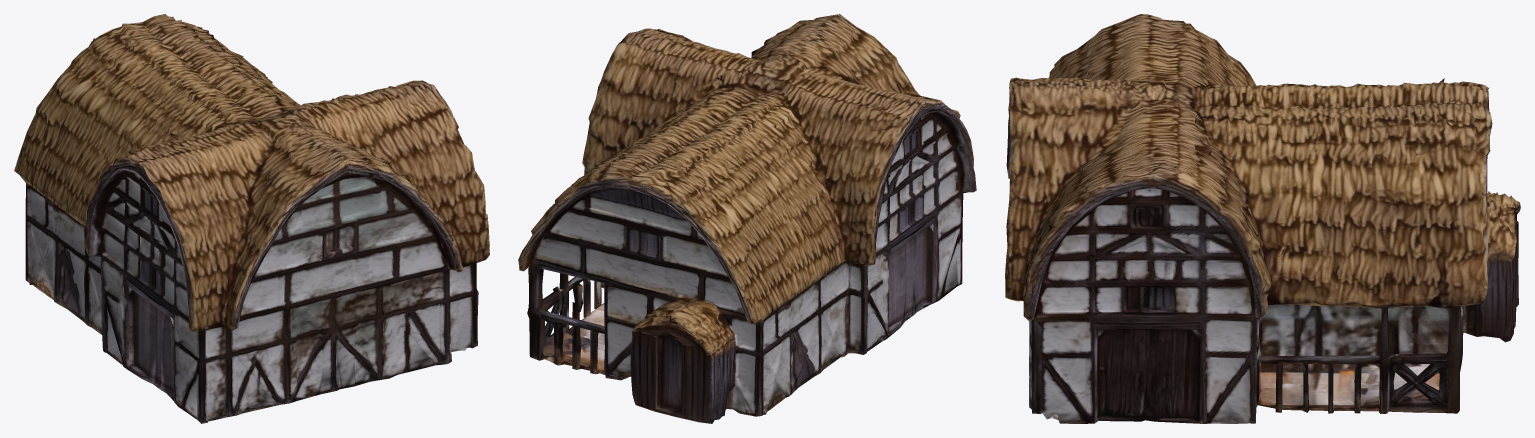
Rendered from medievalFarm.fbx.
3 views of the same model, side by side, from view 1: azimuth 30°, elevation 25°; view 2: azimuth 150°, elevation 25°; view 3: azimuth 270°, elevation 25° (orthographic). The views are drawn at different scales.
Parts seen in each view (by area): view 1: tripo_node_4424d79f; view 2: tripo_node_4424d79f; view 3: tripo_node_4424d79f.
Part boxes in pixels (box(x1,y1,x2,y2)): tripo_node_4424d79f: box(14, 14, 489, 423); tripo_node_4424d79f: box(518, 14, 976, 423); tripo_node_4424d79f: box(1005, 14, 1520, 423).
Size of the model in its own units: 0.7619 by 0.5754 by 0.999.
1 material, 1 textured.
